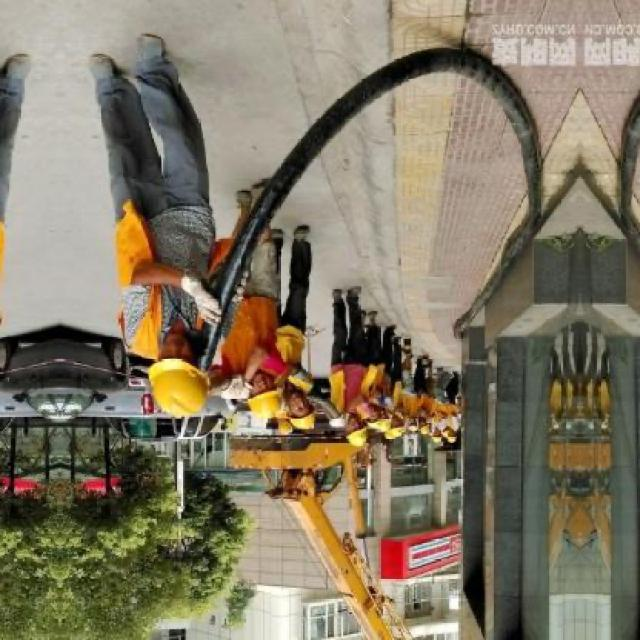con casco: (89, 334, 240, 430), (220, 379, 281, 437), (274, 402, 358, 417), (333, 425, 371, 451)
